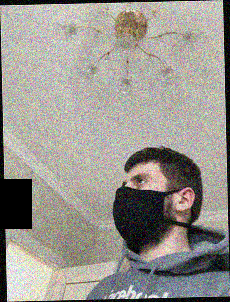with_mask: (113, 170, 171, 246)
